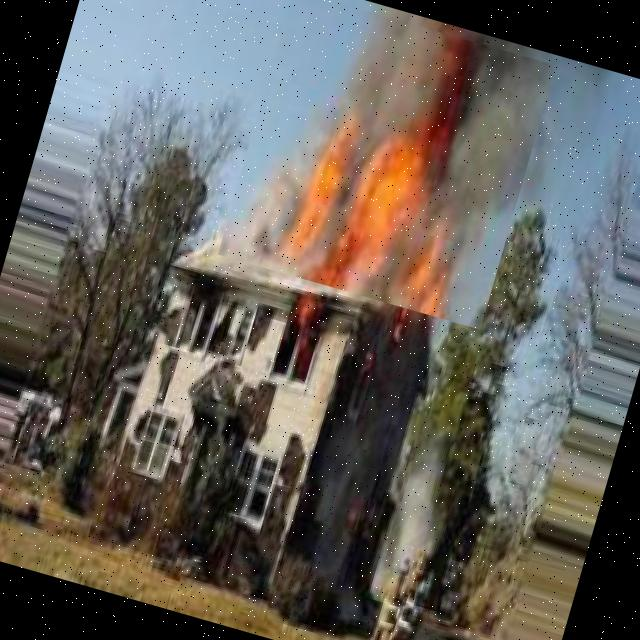fire: (217, 0, 555, 329)
